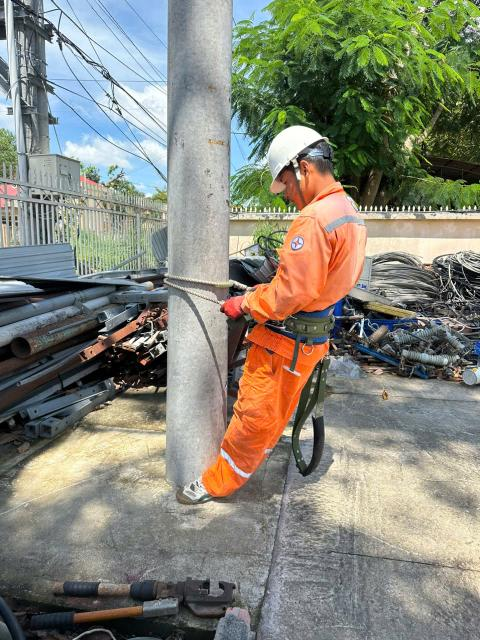gloves: (217, 293, 253, 326)
harness: (263, 297, 346, 356)
helmet: (243, 111, 347, 194)
shoes: (175, 468, 215, 513)
